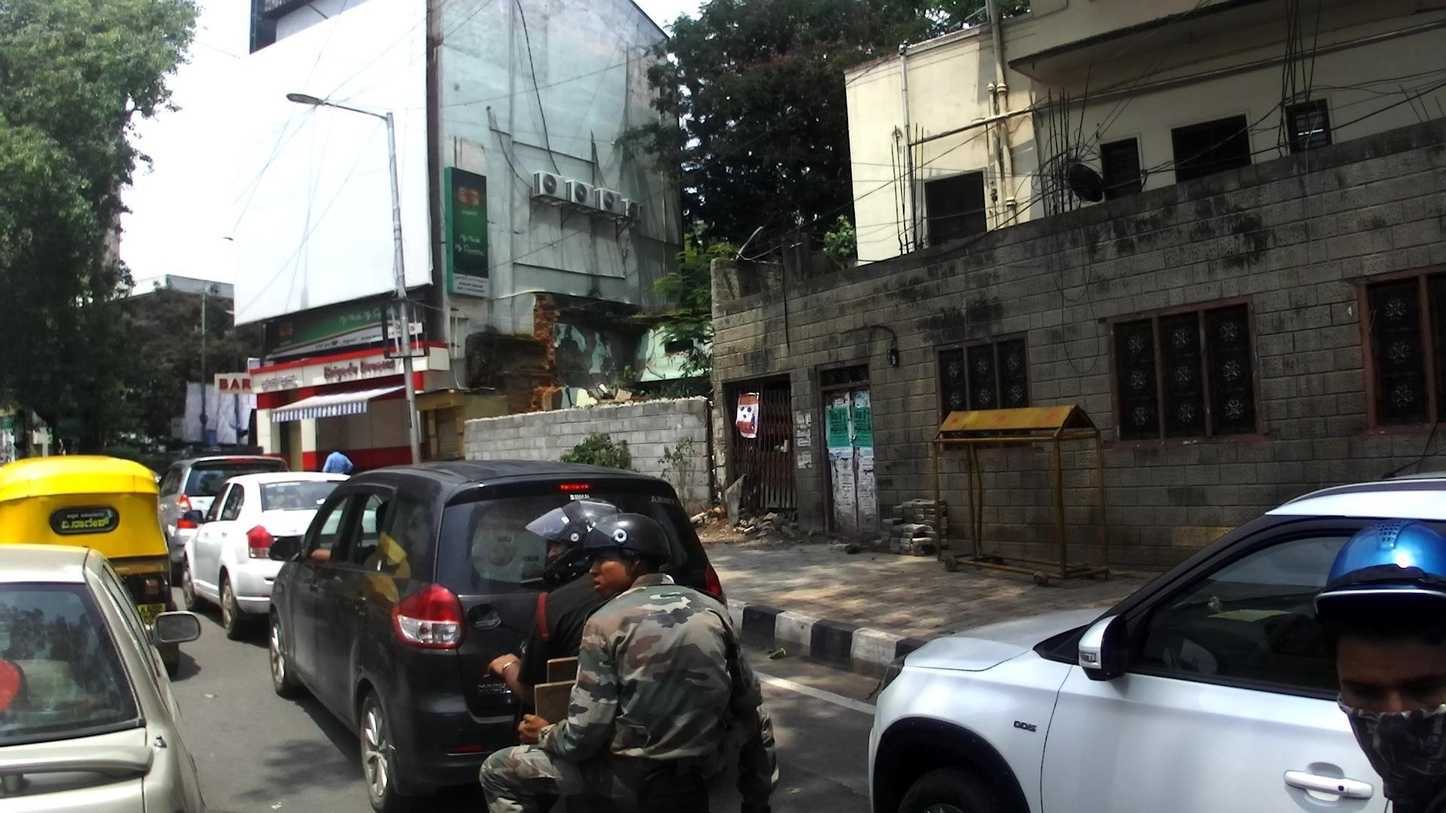streetlight: (282, 91, 398, 125)
